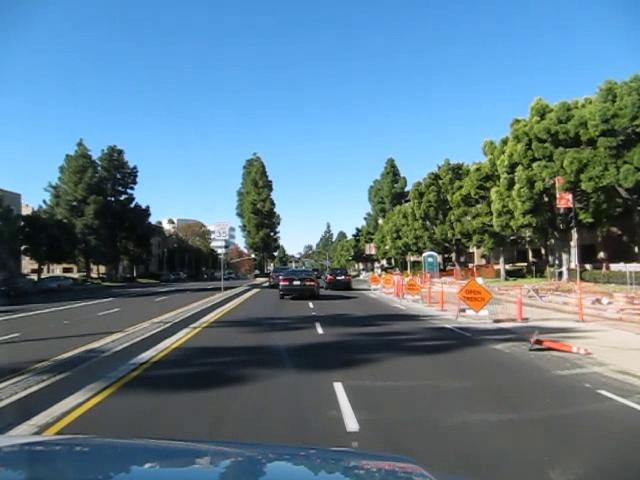speedLimit35: (214, 221, 228, 239)
